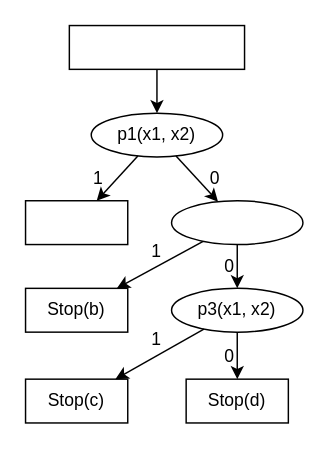
This 329x450 diagram has some shape labels left out. Each missing label, with the box of its shape:
p2(x1, x2): (170, 199, 303, 245)
Start(x1, x2): (68, 24, 245, 69)
Stop(a): (24, 199, 128, 245)
